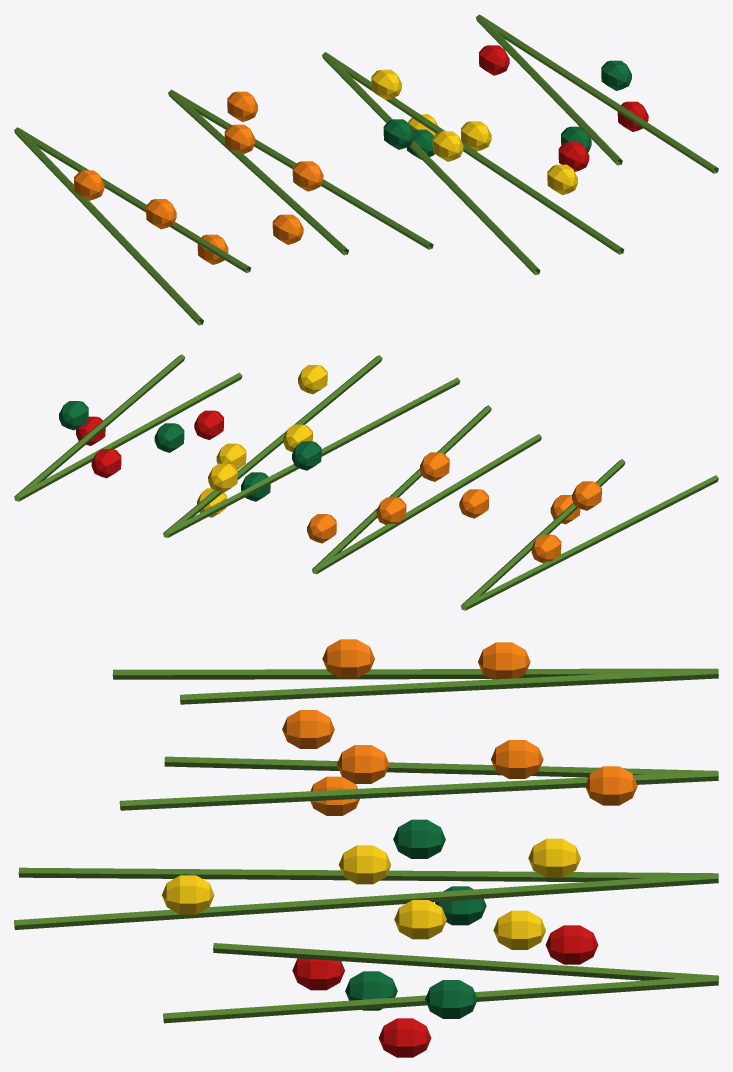
The model's file is r9c3_stems.obj.
3 renders of one model, top to bottom at view 1: azimuth 30°, elevation 25°; view 2: azimuth 150°, elevation 25°; view 3: azimuth 270°, elevation 25°, orthographic. The views are drawn at different scales.
Visible parts, largest first — view 1: r9c3_stems; view 2: r9c3_stems; view 3: r9c3_stems.
Boxes of the visible parts, x1,y1,x2,y2 form: r9c3_stems: (14,14,718,325); r9c3_stems: (14,354,718,610); r9c3_stems: (14,639,718,1057).
Bounding box in the file's own units: 1.65 × 0.1935 × 1.33.
